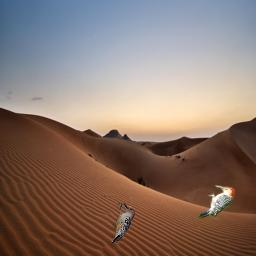Woodpecker: (195, 184, 235, 220), (112, 203, 135, 243)
